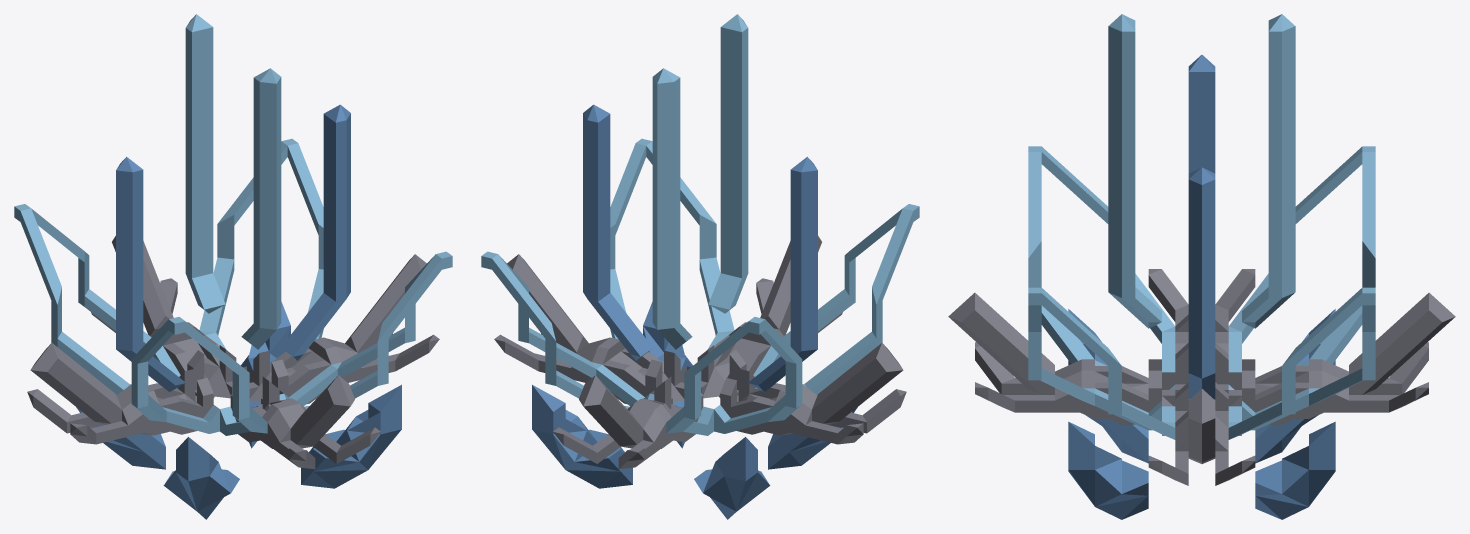
Rendered from satellite.gltf.
3 renders of one model, left to right at view 1: azimuth 30°, elevation 25°; view 2: azimuth 150°, elevation 25°; view 3: azimuth 270°, elevation 25°, orthographic. The views are drawn at different scales.
Visible parts, largest first — view 1: Base, ArmInner, ArmOuter, Thruster; view 2: Base, ArmInner, ArmOuter, Thruster; view 3: Base, ArmInner, Thruster, ArmOuter.
Part boxes in pixels (x1,y1,x2,y2): Base: (14, 138, 452, 469); ArmInner: (185, 14, 281, 349); ArmOuter: (116, 104, 350, 391); Thruster: (76, 301, 401, 519); Base: (481, 138, 919, 469); ArmInner: (652, 14, 748, 349); ArmOuter: (583, 104, 817, 391); Thruster: (532, 301, 857, 519); Base: (948, 146, 1455, 485); ArmInner: (1108, 14, 1295, 328); Thruster: (1068, 309, 1335, 519); ArmOuter: (1188, 55, 1215, 399).
Size of the model in its own units: 19 by 19.5 by 19.
